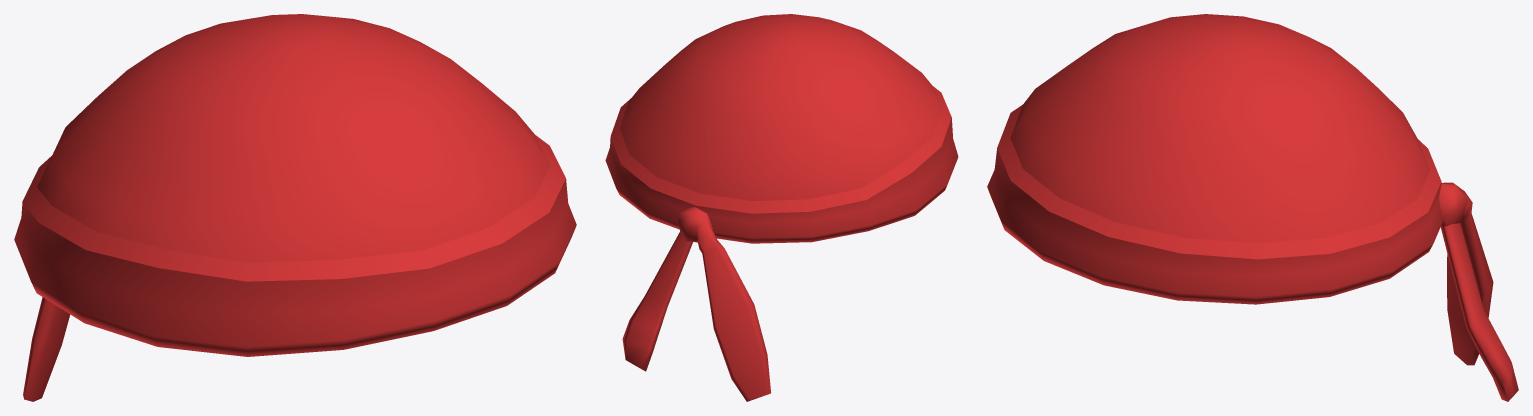
The model's file is Hat_114_01.fbx.
3 renders of one model, left to right at view 1: azimuth 30°, elevation 25°; view 2: azimuth 150°, elevation 25°; view 3: azimuth 270°, elevation 25°, orthographic. The views are drawn at different scales.
Parts seen in each view (by area): view 1: Hat_114_01; view 2: Hat_114_01; view 3: Hat_114_01.
Part boxes in pixels (bbox=[...]): Hat_114_01: bbox=[14, 14, 576, 401]; Hat_114_01: bbox=[605, 14, 958, 401]; Hat_114_01: bbox=[987, 14, 1518, 401].
Size of the model in its own units: 36.84 by 32.99 by 43.12.
